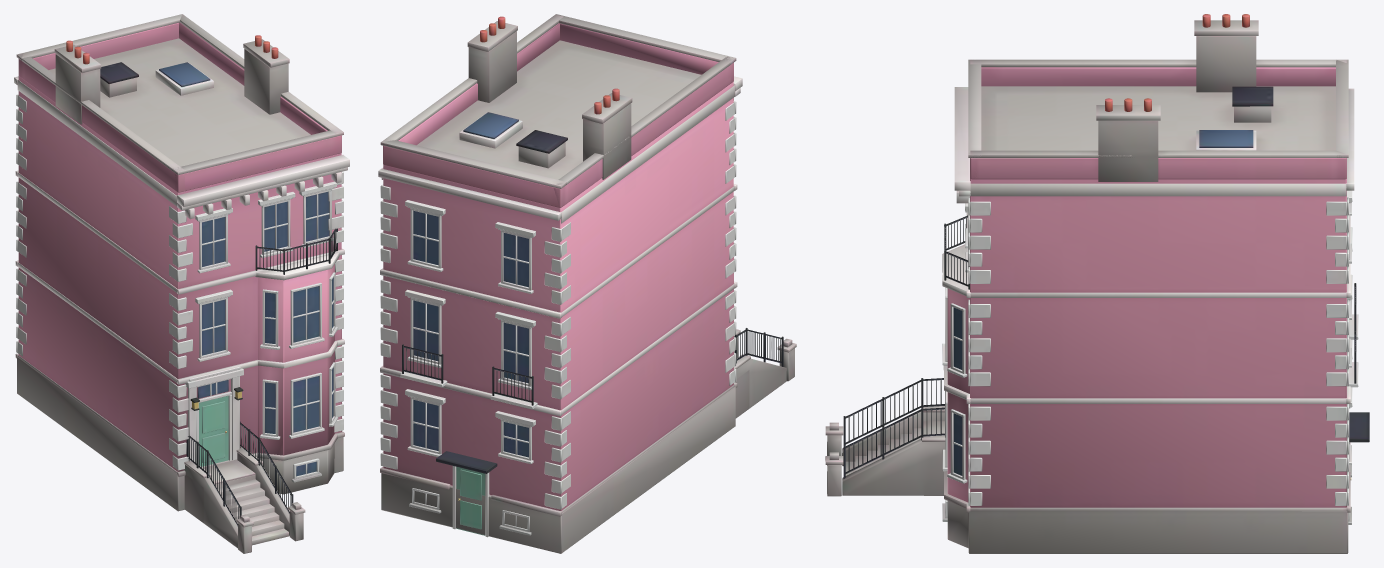
The model's file is townhouse.glb.
3 views of the same model, side by side, from view 1: azimuth 30°, elevation 25°; view 2: azimuth 150°, elevation 25°; view 3: azimuth 270°, elevation 25° (orthographic). The views are drawn at different scales.
Parts seen in each view (by area): view 1: townhouse_body, townhouse_trim; view 2: townhouse_body, townhouse_trim; view 3: townhouse_body, townhouse_trim.
Part boxes in pixels (bbox=[...]): townhouse_body: bbox=[14, 14, 349, 553]; townhouse_trim: bbox=[16, 94, 343, 526]; townhouse_body: bbox=[378, 14, 796, 553]; townhouse_trim: bbox=[380, 101, 783, 537]; townhouse_body: bbox=[825, 14, 1354, 553]; townhouse_trim: bbox=[843, 190, 1369, 524].
Bounding box in the file's own units: 6 × 13.15 × 14.44.
Materials: 2 (2 with a texture image).
